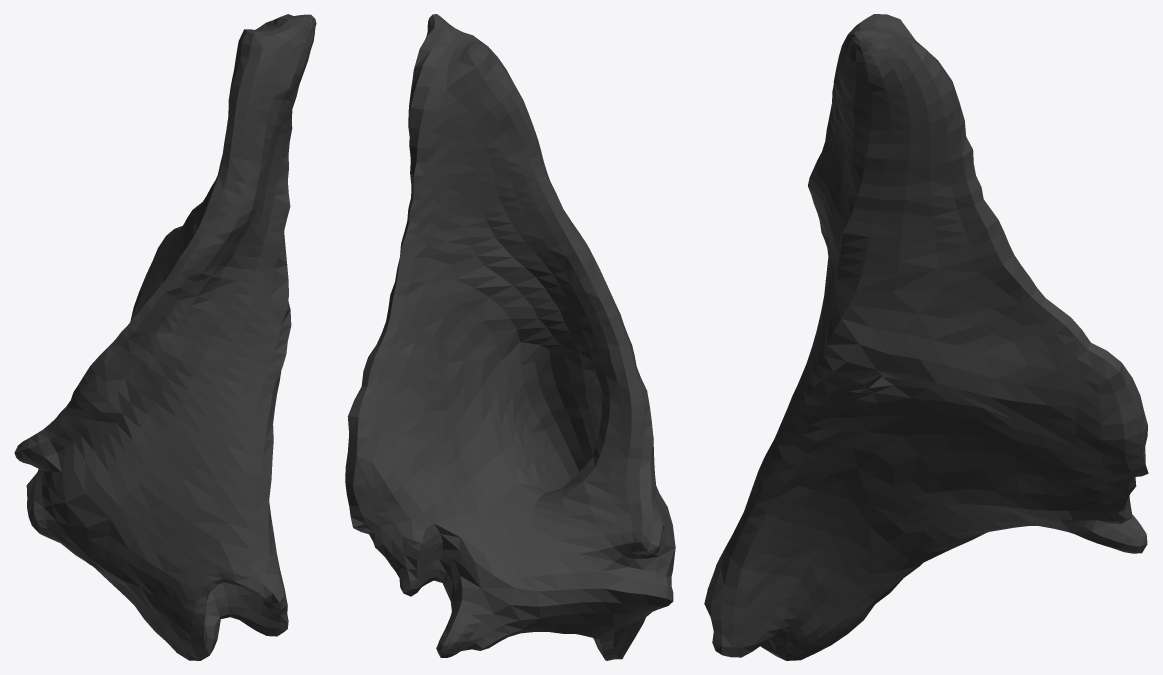
File: Lacrimal_R.glb
The picture shows the model from 3 angles, left to right: view 1: azimuth 30°, elevation 25°; view 2: azimuth 150°, elevation 25°; view 3: azimuth 270°, elevation 25°; orthographic projection. The views are drawn at different scales.
Parts seen in each view (by area): view 1: Lacrimal_R; view 2: Lacrimal_R; view 3: Lacrimal_R.
Part boxes in pixels (box(x1,y1,x2,y2)): Lacrimal_R: box(14, 14, 316, 660); Lacrimal_R: box(345, 14, 675, 660); Lacrimal_R: box(704, 14, 1148, 660).
Size of the model in its own units: 58.77 by 128 by 72.04.
1 material, 1 textured.
